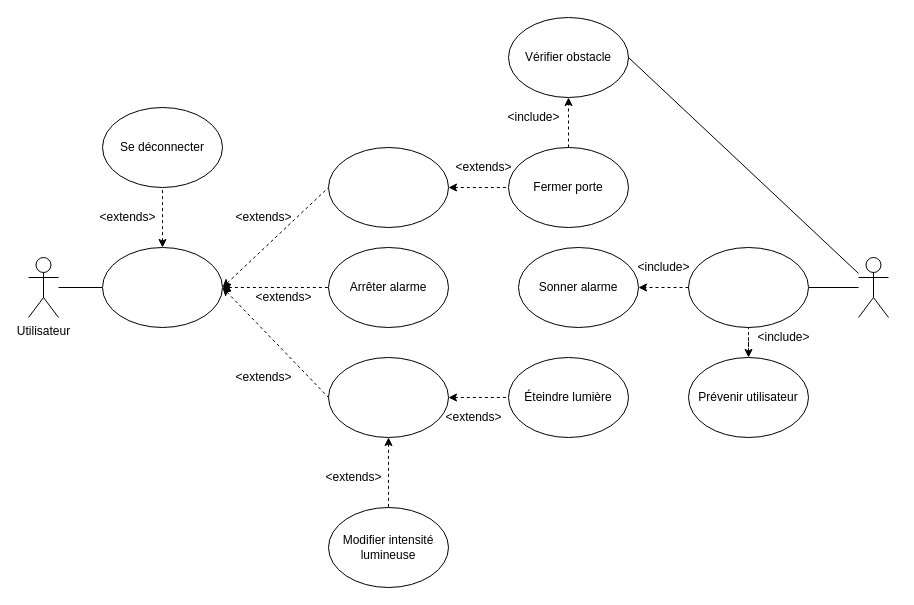
The diagram is 914 pixels wide and 605 high, and some of its shapes have lost their labels. Each missing label, with the centre of its shape:
Allumer lumière: point 388,397
Détecter intrusion: point 748,287
Ouvrir porte: point 388,187
Se connecter: point 162,287
Système: point 873,287
